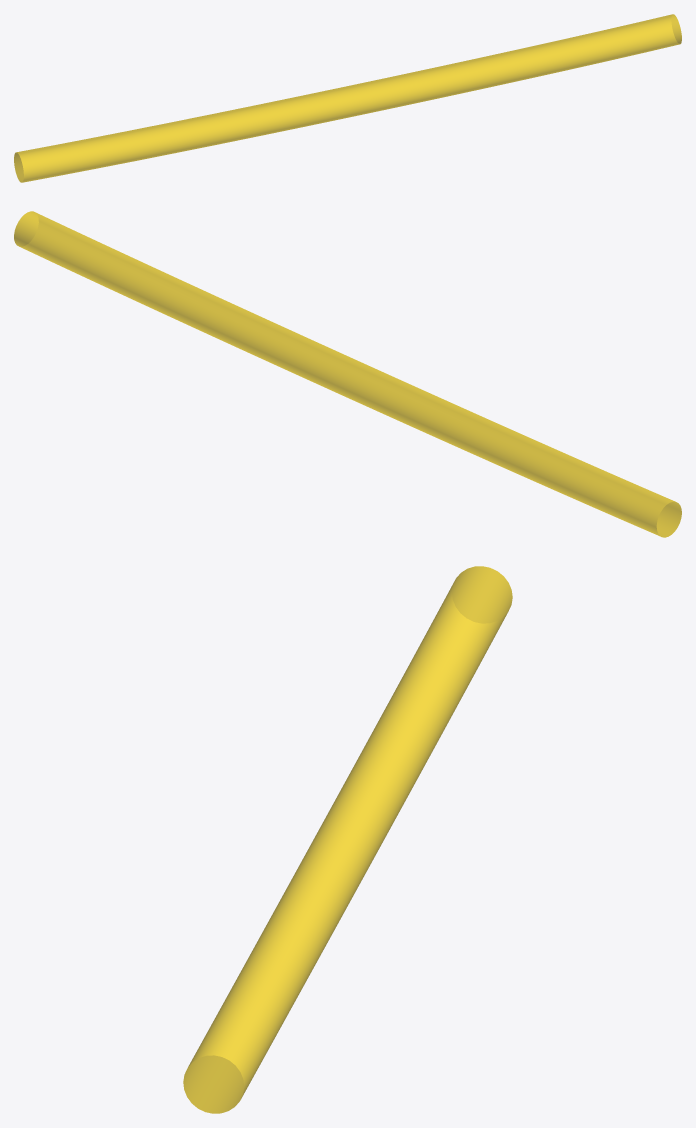
Rendered from Event_419990632_track_46.fbx.
3 views of the same model, one above another, from view 1: azimuth 30°, elevation 25°; view 2: azimuth 150°, elevation 25°; view 3: azimuth 270°, elevation 25° (orthographic). The views are drawn at different scales.
Visible parts, largest first — view 1: Model; view 2: Model; view 3: Model.
Boxes of the visible parts, x1,y1,x2,y2 form: Model: (14, 14, 681, 182); Model: (14, 211, 681, 537); Model: (183, 566, 512, 1113).
Size of the model in its own units: 0.8863 by 0.1015 by 0.2121.
